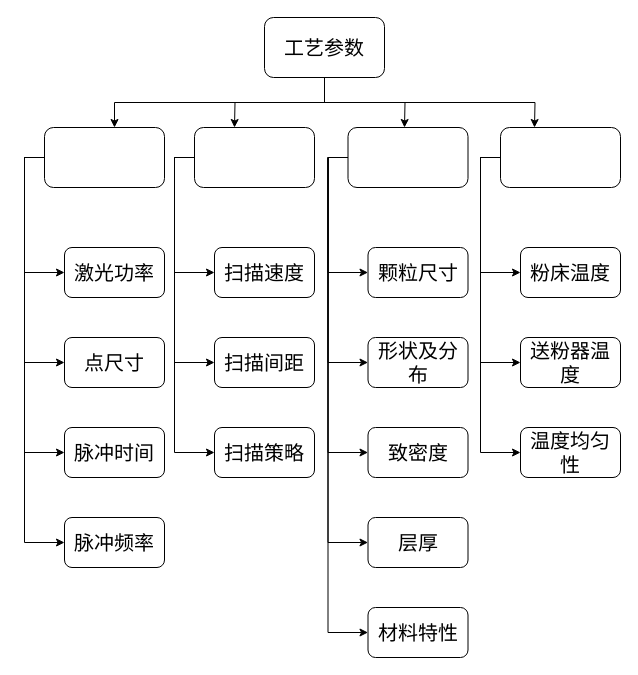
Some shapes in this 638 by 675 pixel diagram are drawn without their labels. Each missing label, with the centre of its shape:
"扫描相关" belongs at (x=254, y=157).
"温度相关" belongs at (x=560, y=157).
"激光相关" belongs at (x=104, y=157).
"粉末相关" belongs at (x=407, y=157).
